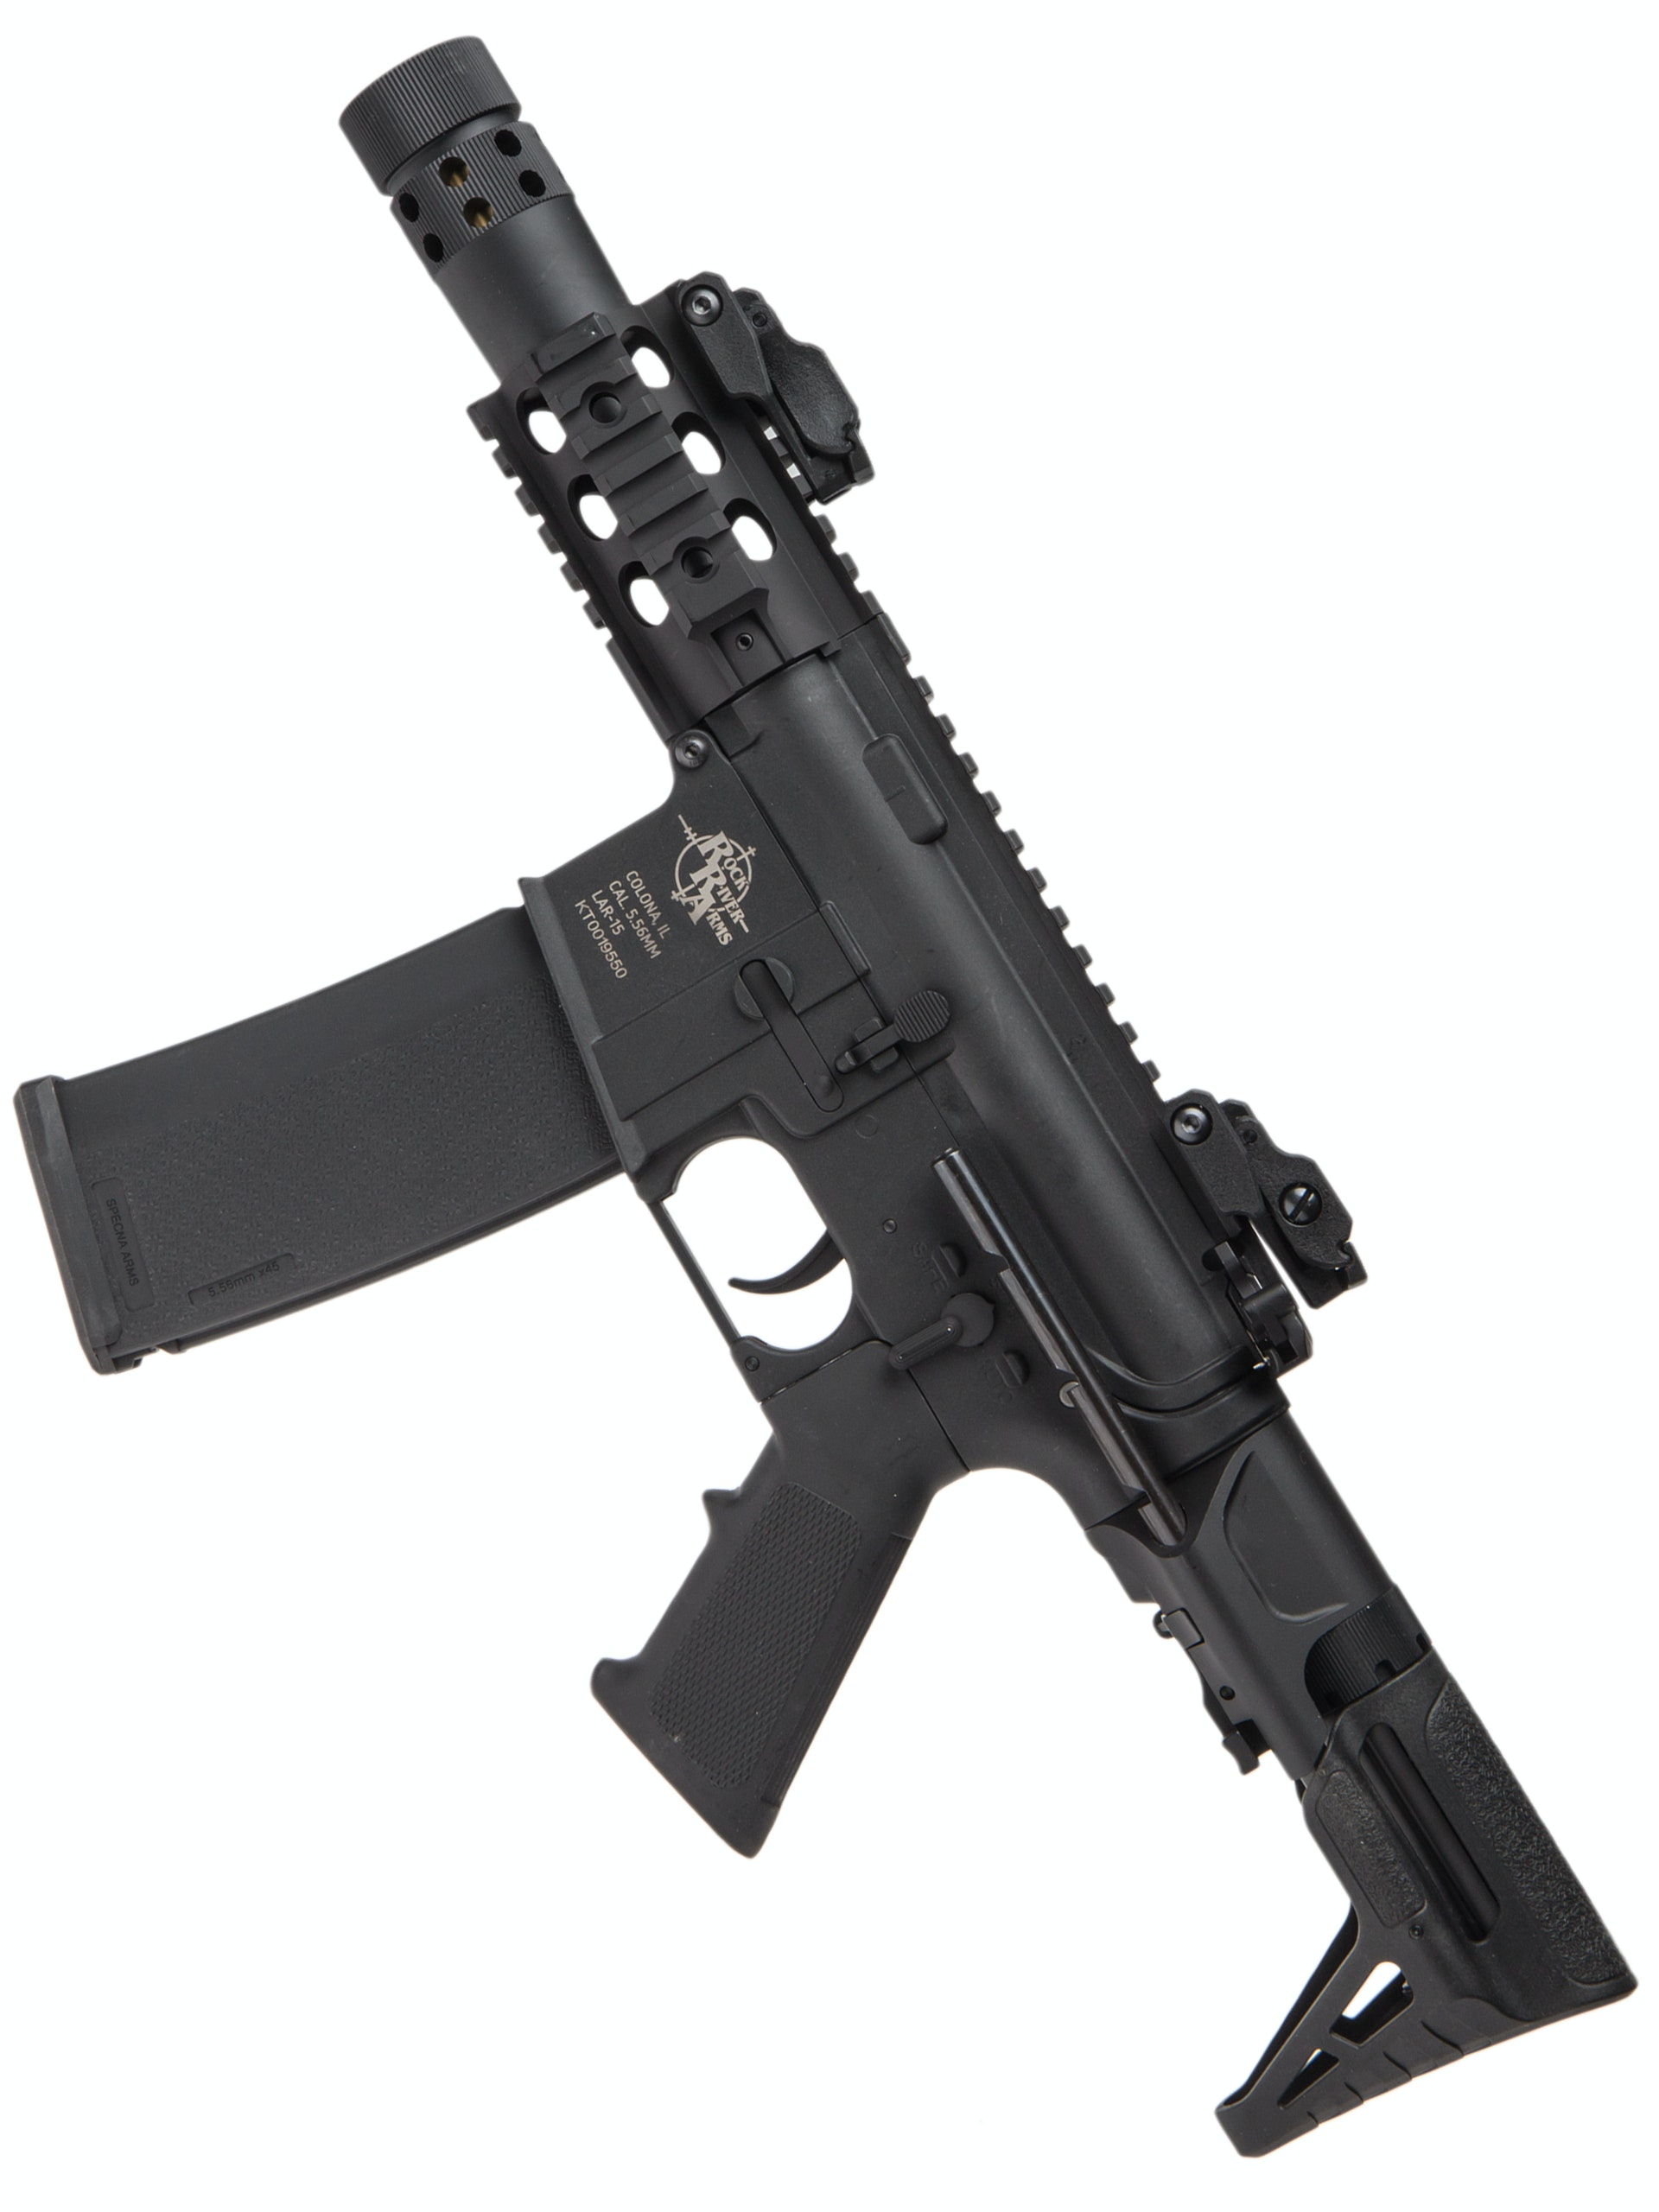m4_carbine: (16, 723, 1223, 1885)
